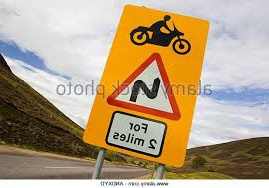Double_bend_right: (106, 51, 183, 121)
